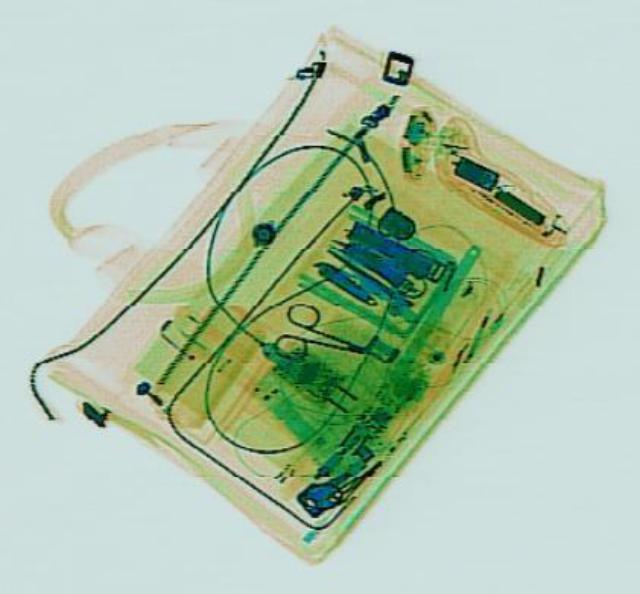Scissors: (266, 297, 372, 375)
